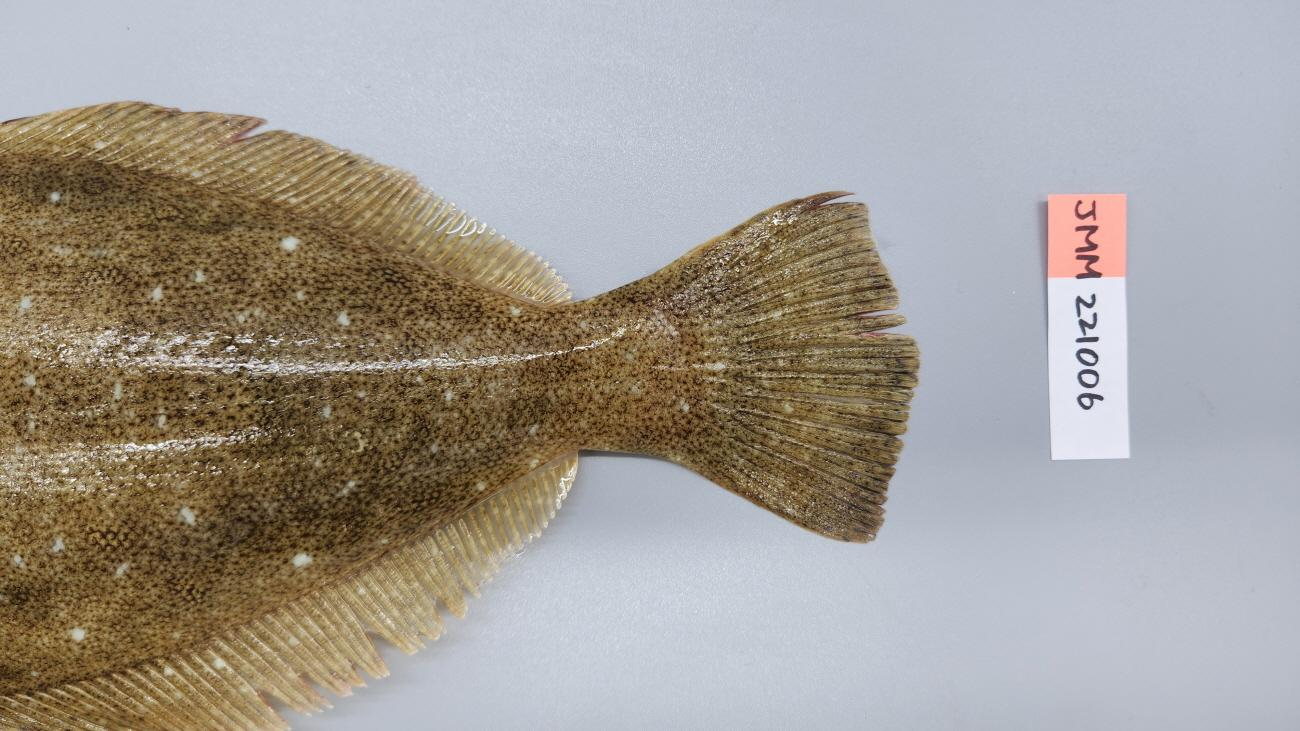POOUN: (0, 100, 922, 731)
